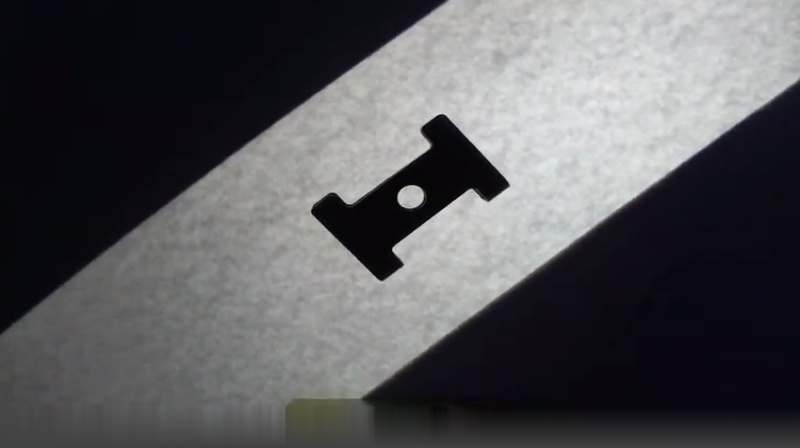O002: (307, 109, 511, 284)
